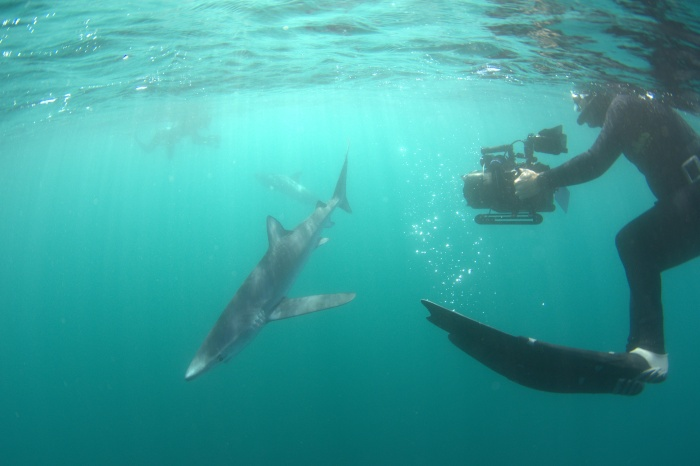Azul: (146, 143, 400, 392)
